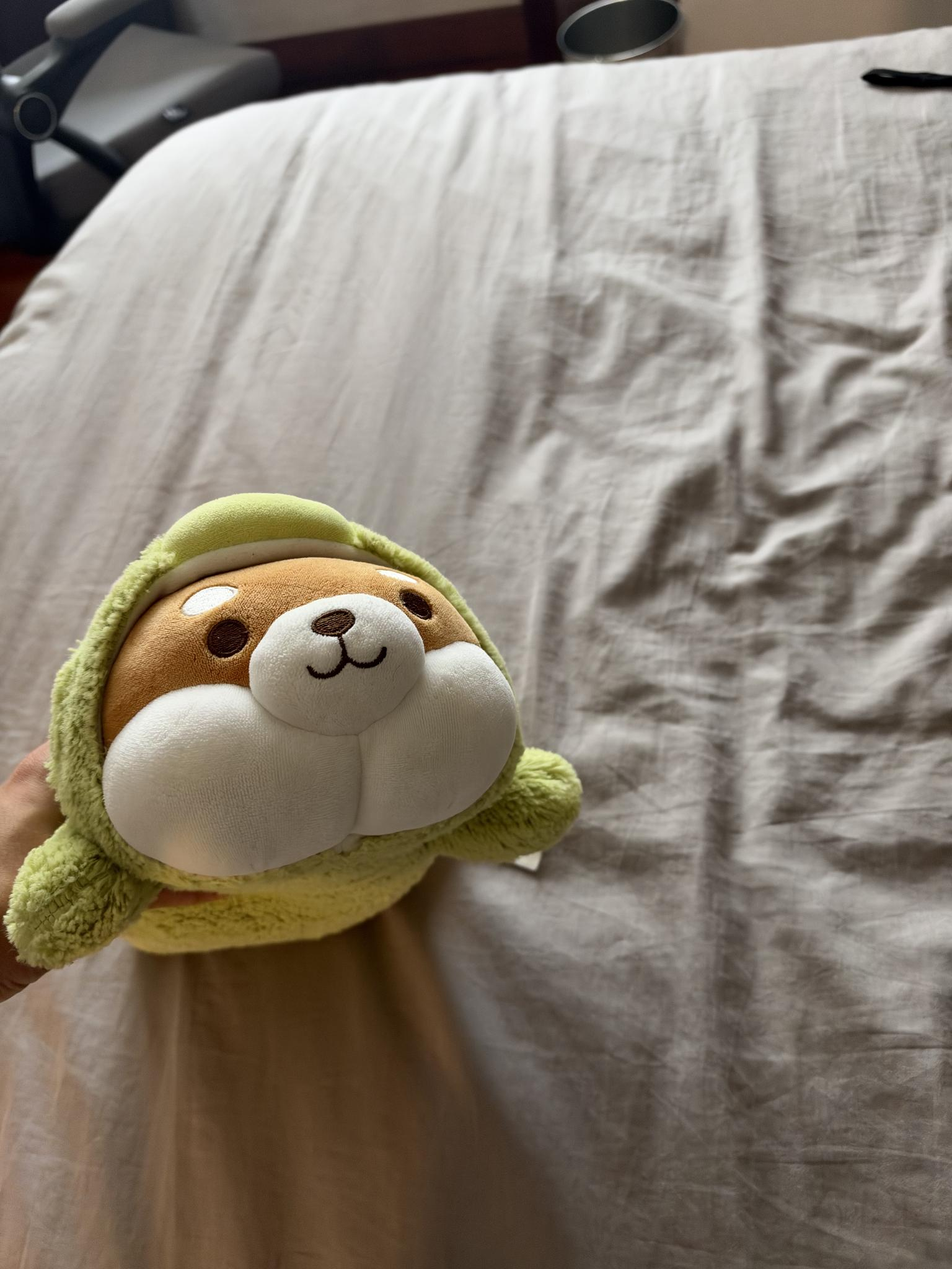peluche_martin: (2, 489, 587, 967)
